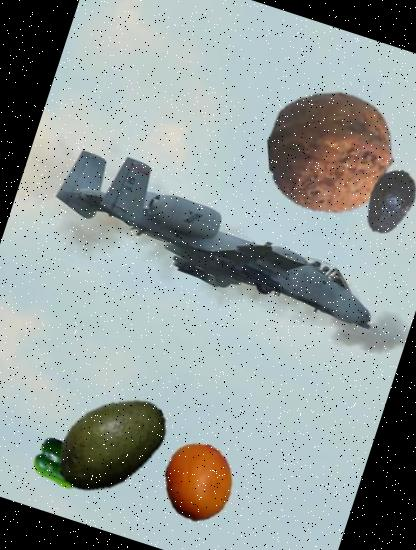Apricot: (148, 432, 248, 532)
Avocado: (37, 370, 186, 519), (345, 158, 416, 244)
Pepper: (26, 428, 93, 496)
Walnut: (251, 74, 410, 232)
